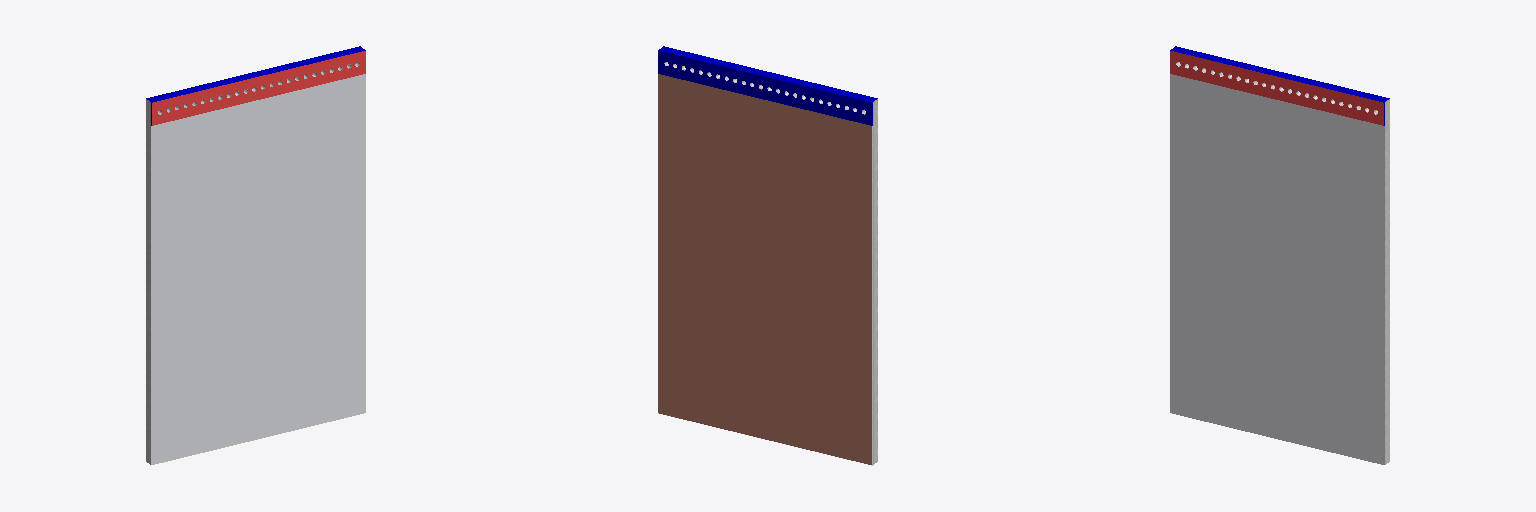
The picture shows the model from 3 angles: view 1: azimuth 30°, elevation 25°; view 2: azimuth 150°, elevation 25°; view 3: azimuth 330°, elevation 25°; orthographic projection.
Parts seen in each view (by area): view 1: <CoolGray1>, Layer_Layer0, Blinds_Cellular_White, Color_I06; view 2: Color_B09, Color_I06, Blinds_Cellular_White; view 3: <CoolGray1>, Layer_Layer0, Blinds_Cellular_White, Color_I06.
Part boxes in pixels (left/top/right/bottom): <CoolGray1>: left=151, top=74, right=365, bottom=464; Layer_Layer0: left=152, top=51, right=365, bottom=125; Blinds_Cellular_White: left=146, top=62, right=359, bottom=464; Color_I06: left=146, top=46, right=365, bottom=125; Color_B09: left=658, top=74, right=871, bottom=464; Color_I06: left=658, top=46, right=877, bottom=125; Blinds_Cellular_White: left=664, top=62, right=877, bottom=464; <CoolGray1>: left=1170, top=74, right=1384, bottom=464; Layer_Layer0: left=1170, top=51, right=1383, bottom=125; Blinds_Cellular_White: left=1176, top=62, right=1389, bottom=464; Color_I06: left=1170, top=46, right=1389, bottom=125.
Bounding box in the file's own units: 5.75 × 9.3 × 0.27.
5 materials, 1 textured.